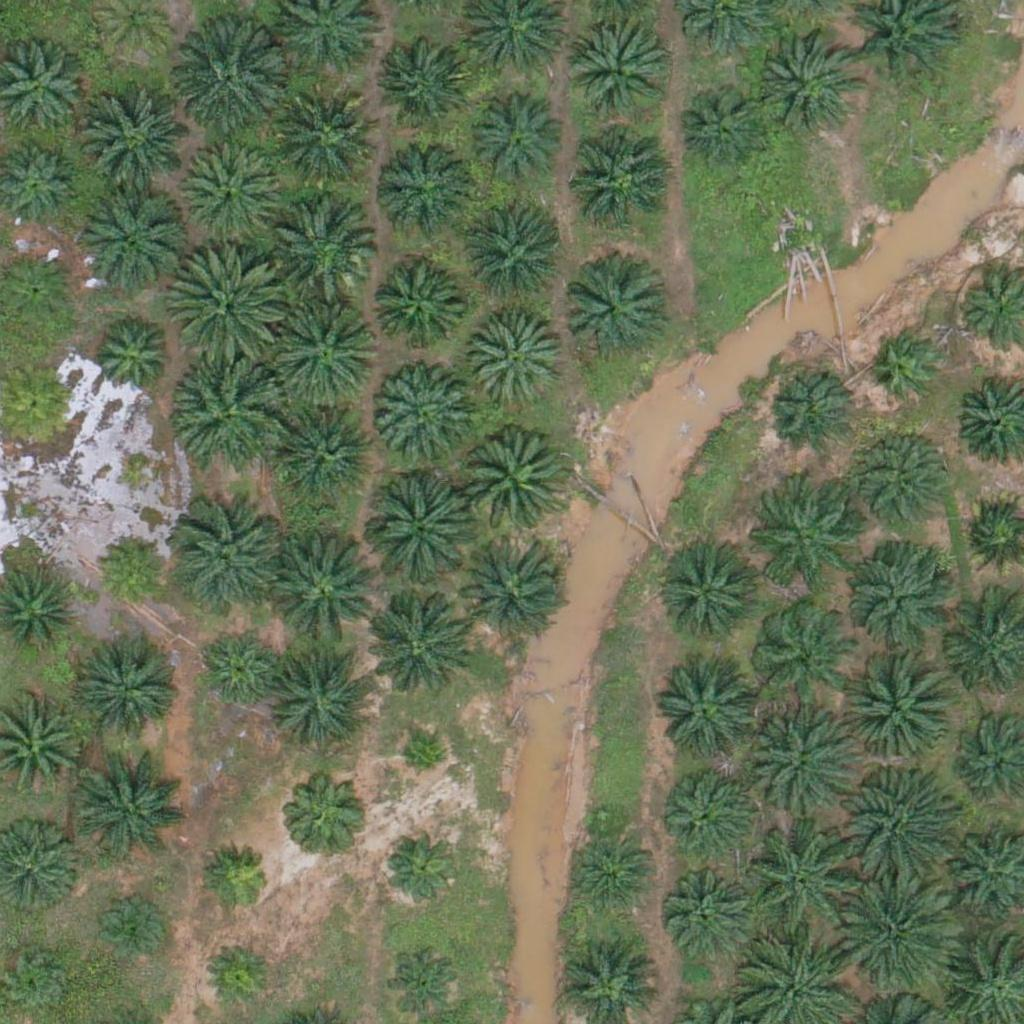Kelapa_Sawit: (844, 877, 957, 990), (844, 766, 957, 879), (843, 648, 956, 761), (844, 533, 957, 646), (741, 708, 854, 821), (360, 473, 473, 586), (357, 590, 470, 703), (175, 354, 288, 467), (172, 502, 285, 615), (265, 190, 378, 303), (172, 23, 285, 136), (264, 532, 376, 646), (268, 291, 380, 405), (170, 243, 282, 357), (77, 751, 189, 864), (748, 822, 860, 935), (456, 425, 568, 538), (453, 533, 565, 646), (269, 642, 381, 755), (79, 89, 191, 202), (74, 182, 186, 295), (79, 636, 179, 737), (745, 490, 845, 591), (751, 602, 851, 703), (657, 756, 757, 857), (657, 664, 757, 765), (663, 538, 763, 639), (560, 262, 660, 363), (467, 311, 567, 412), (365, 256, 465, 357), (372, 364, 472, 465), (754, 34, 854, 135), (563, 20, 663, 121), (181, 144, 281, 245), (852, 425, 952, 525), (660, 858, 760, 958), (465, 213, 565, 313), (279, 402, 379, 502), (569, 130, 669, 230), (465, 89, 565, 189), (377, 134, 477, 234), (374, 30, 474, 130), (272, 93, 372, 193), (196, 628, 284, 716), (767, 366, 855, 454), (281, 765, 369, 853), (379, 821, 466, 909), (566, 824, 653, 912), (86, 313, 173, 401), (680, 82, 767, 170), (93, 530, 168, 606), (96, 892, 171, 968), (870, 332, 945, 408), (201, 842, 276, 917), (201, 938, 276, 1013), (398, 736, 448, 786)
